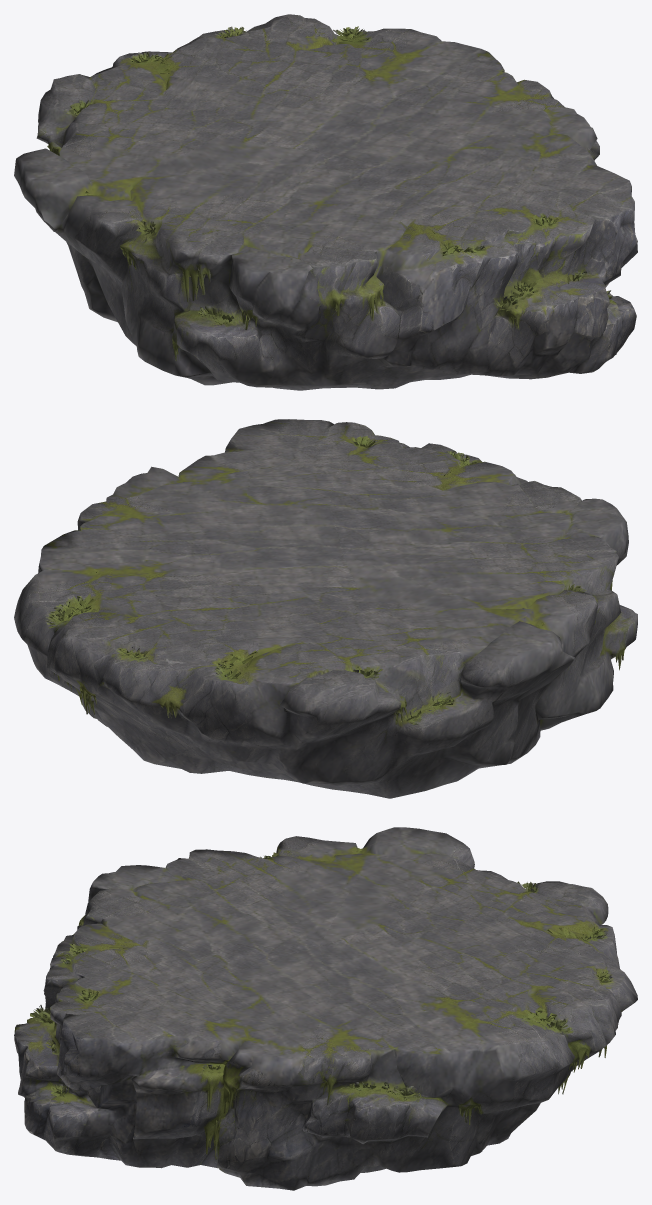
File: Meshy_AI_Mossbound_Stone_Platform_20261118_texture.fbx
3 renders of one model, top to bottom at view 1: azimuth 30°, elevation 25°; view 2: azimuth 150°, elevation 25°; view 3: azimuth 270°, elevation 25°, orthographic. The views are drawn at different scales.
Visible parts, largest first — view 1: Mesh_0; view 2: Mesh_0; view 3: Mesh_0.
Part boxes in pixels (bbox=[...]): Mesh_0: bbox=[14, 14, 637, 390]; Mesh_0: bbox=[14, 419, 637, 798]; Mesh_0: bbox=[14, 827, 637, 1190].
Size of the model in its own units: 84.86 by 25.93 by 95.65.
Materials: 1 (1 with a texture image).
